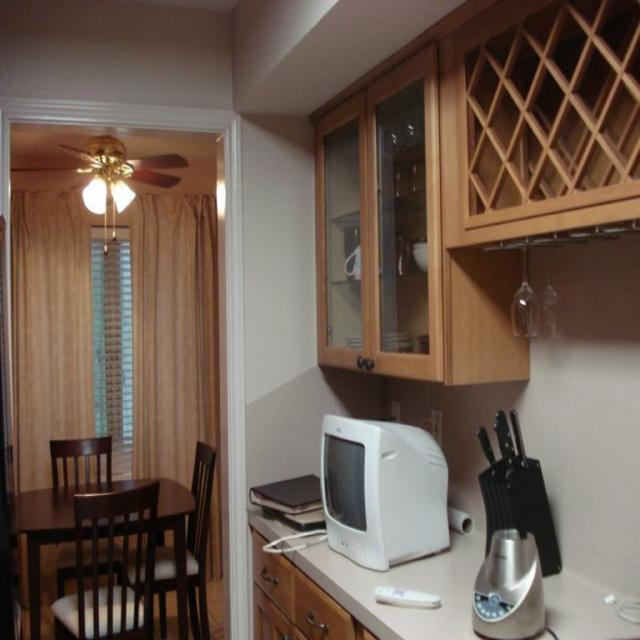fan_off: (5, 140, 187, 191)
